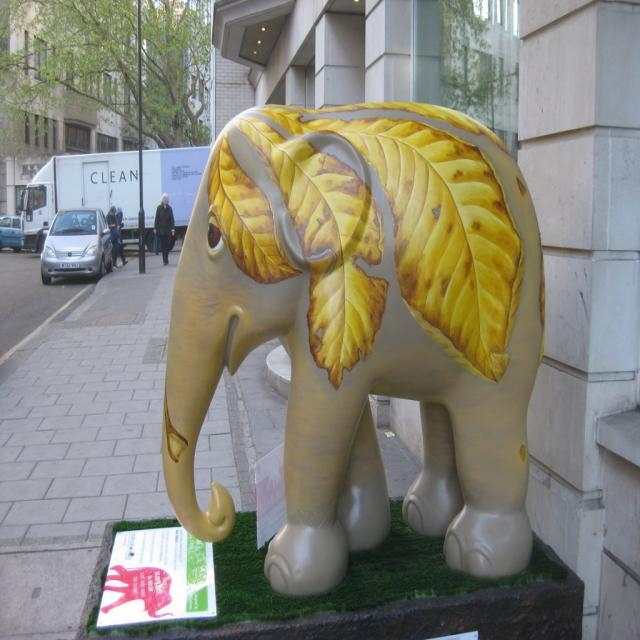elephant: (162, 104, 544, 595)
